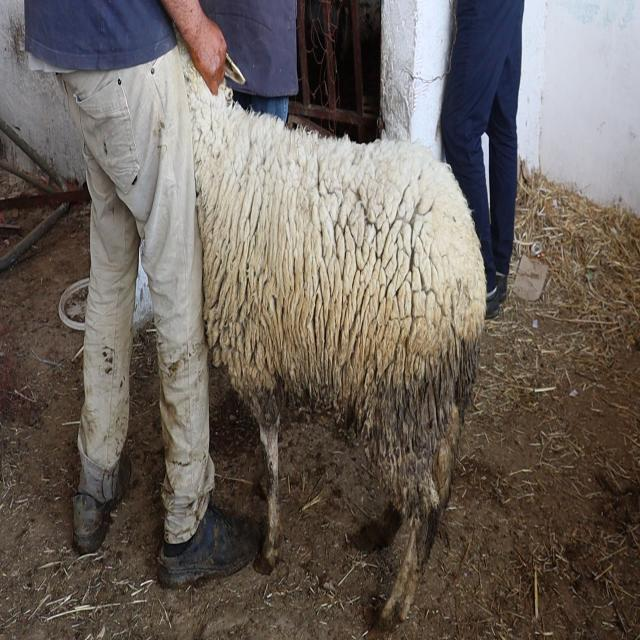Score_4: (181, 46, 486, 633)
